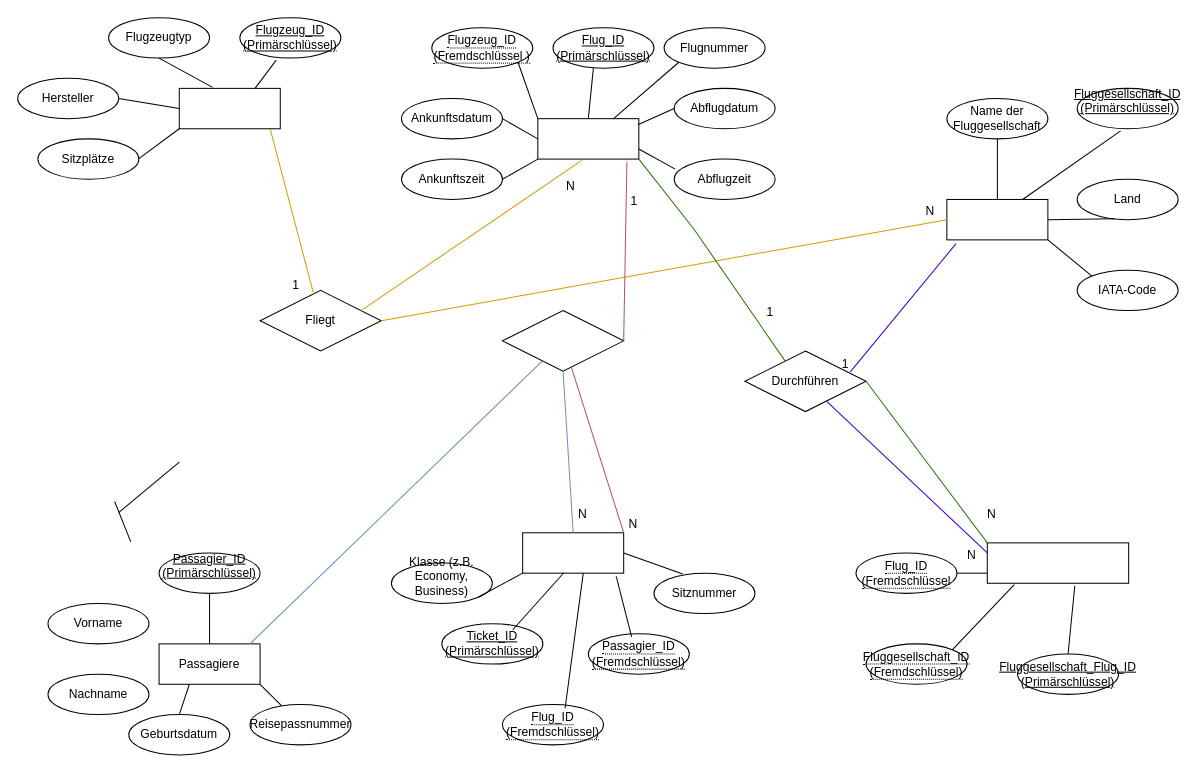
Image size: 1198x773. Some labels were removed from this diagram. Each missing label, with the centre of its shape:
Buchen/Kaufen: (x=562, y=340)
Fluggesellschaften: (x=997, y=219)
Fluggeslschaftsflüge: (x=1057, y=562)
Flugzeug: (x=229, y=108)
Flüge: (x=588, y=138)
Tickets: (x=573, y=552)
